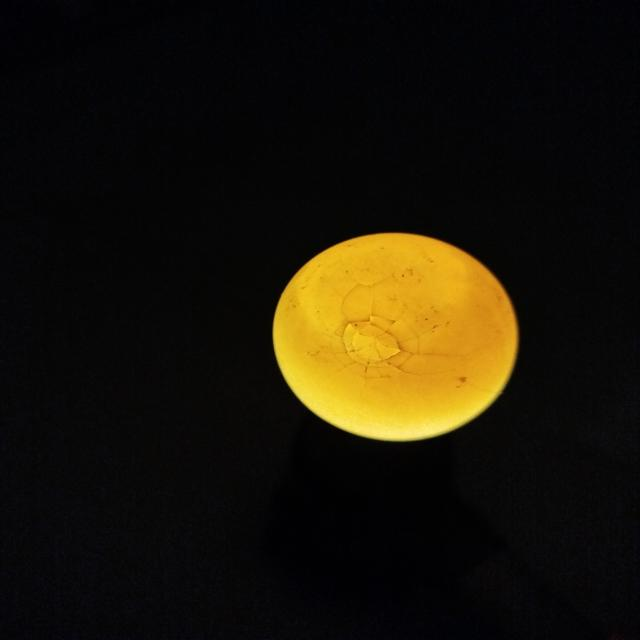Camara de Ar: (297, 233, 468, 358)
Rachadura: (331, 276, 463, 377)
